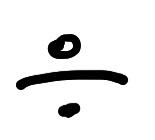div: (16, 33, 129, 118)
